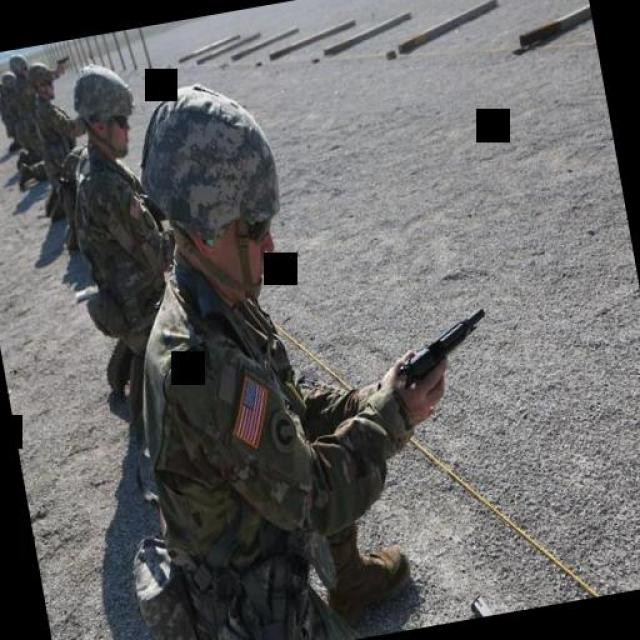gun: (396, 305, 494, 393)
